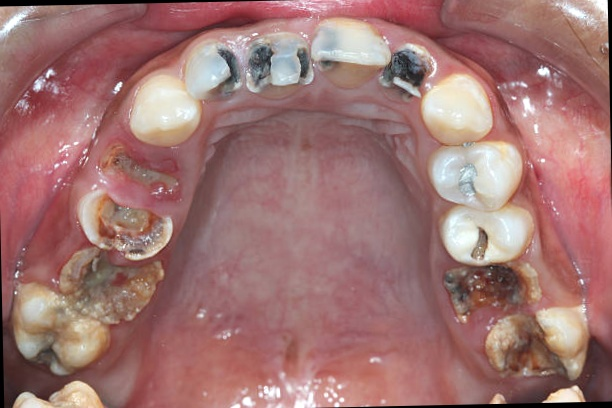Caries: (435, 219, 540, 320), (202, 30, 333, 101), (62, 253, 170, 327), (96, 134, 187, 204), (95, 198, 181, 259), (490, 322, 579, 377), (381, 45, 433, 102)
